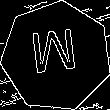M_S: (30, 29, 82, 84)
